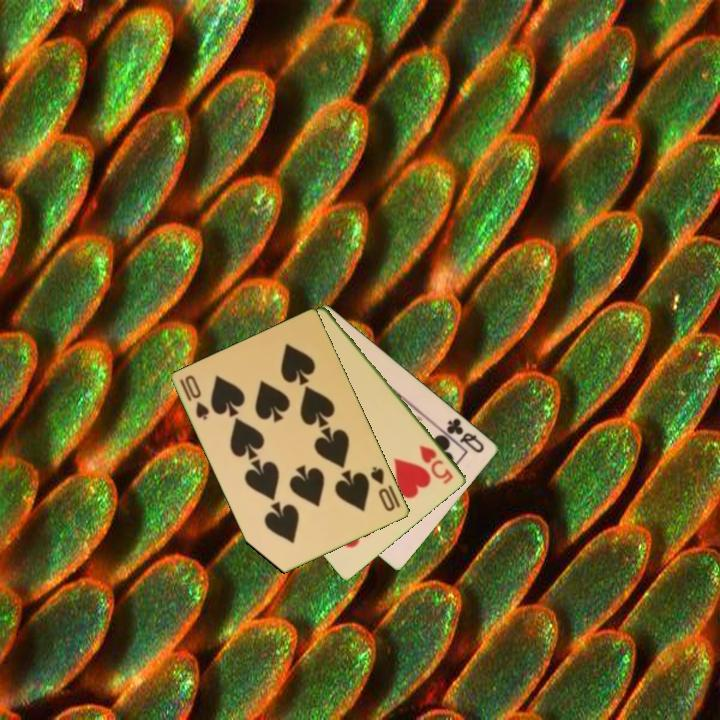10s: (176, 371, 213, 423), (367, 463, 398, 515)
5h: (416, 441, 457, 487)
Qc: (438, 414, 488, 456)
